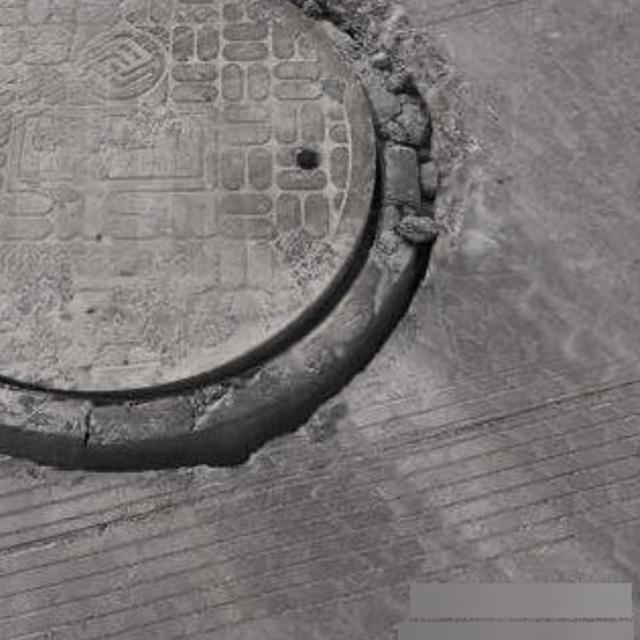circle: (0, 0, 455, 484)
